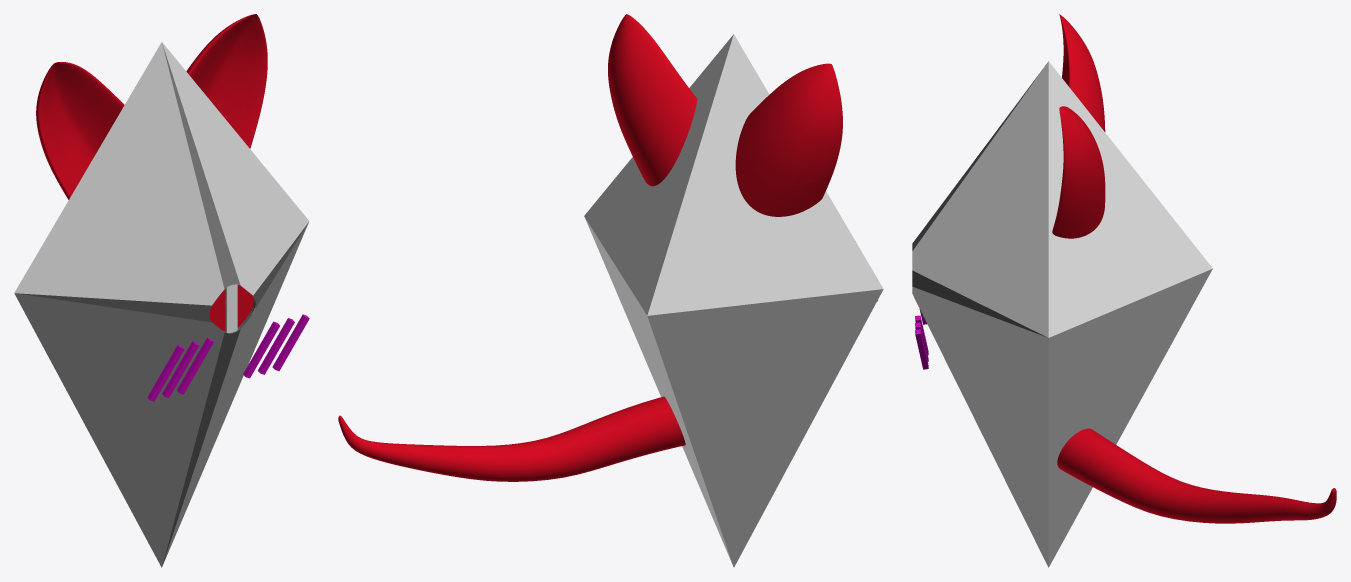
Rendered from Kawaii_Desohedron.fbx.
3 views of the same model, side by side, from view 1: azimuth 30°, elevation 25°; view 2: azimuth 150°, elevation 25°; view 3: azimuth 270°, elevation 25° (orthographic). The views are drawn at different scales.
Visible parts, largest first — view 1: Circle; view 2: Circle; view 3: Circle.
Boxes of the visible parts, bbox=[...] form: Circle: bbox=[14, 14, 309, 567]; Circle: bbox=[338, 14, 883, 567]; Circle: bbox=[912, 14, 1336, 567].
Bounding box in the file's own units: 5291 × 6836 × 5190.
